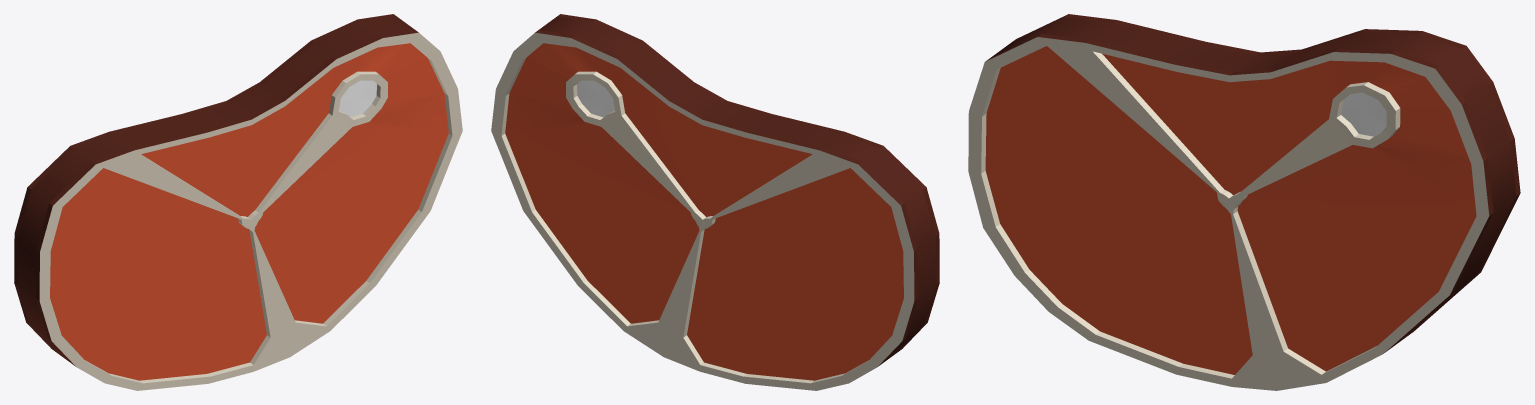
File: Steak.fbx
3 renders of one model, left to right at view 1: azimuth 30°, elevation 25°; view 2: azimuth 150°, elevation 25°; view 3: azimuth 330°, elevation 25°, orthographic. The views are drawn at different scales.
Parts seen in each view (by area): view 1: pCylinder1; view 2: pCylinder1; view 3: pCylinder1.
Part boxes in pixels (x1,y1,x2,y2): pCylinder1: (14, 14, 462, 390); pCylinder1: (491, 14, 939, 390); pCylinder1: (968, 14, 1520, 390).
Bounding box in the file's own units: 5.04 × 3.45 × 0.5511.
